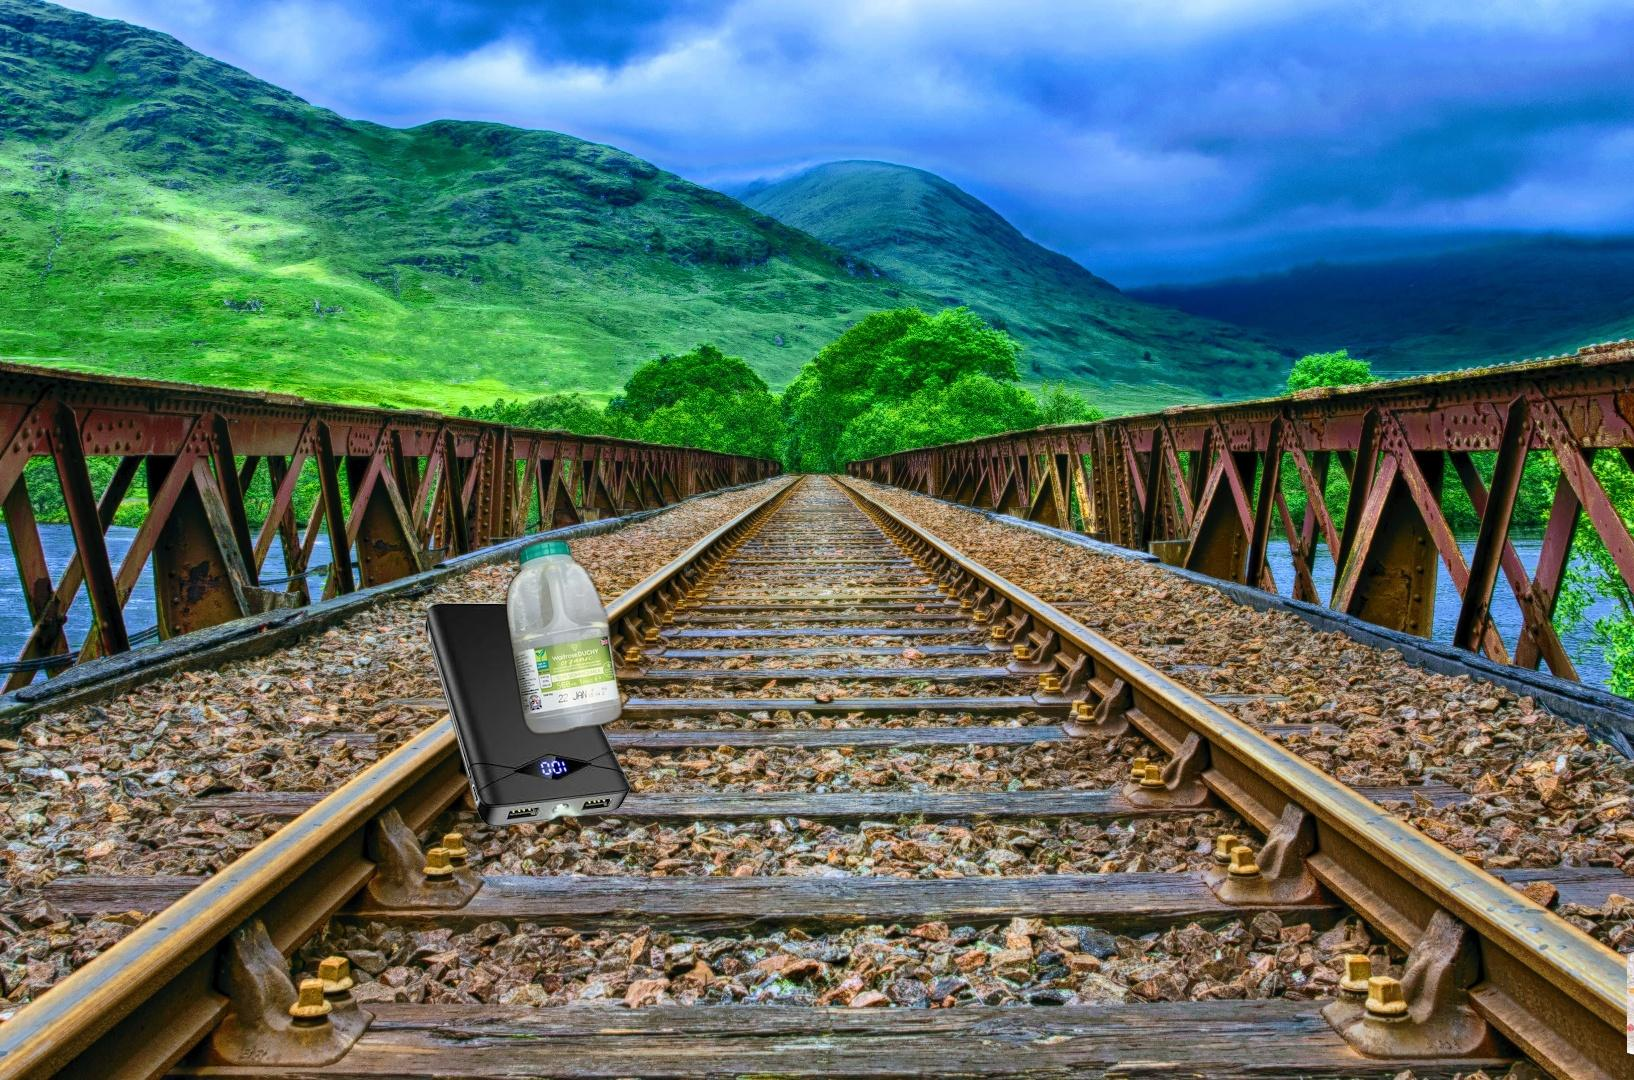battery: (425, 603, 631, 830)
plastic-bottles: (335, 533, 627, 1041)
trash: (1627, 935, 1634, 1080)
